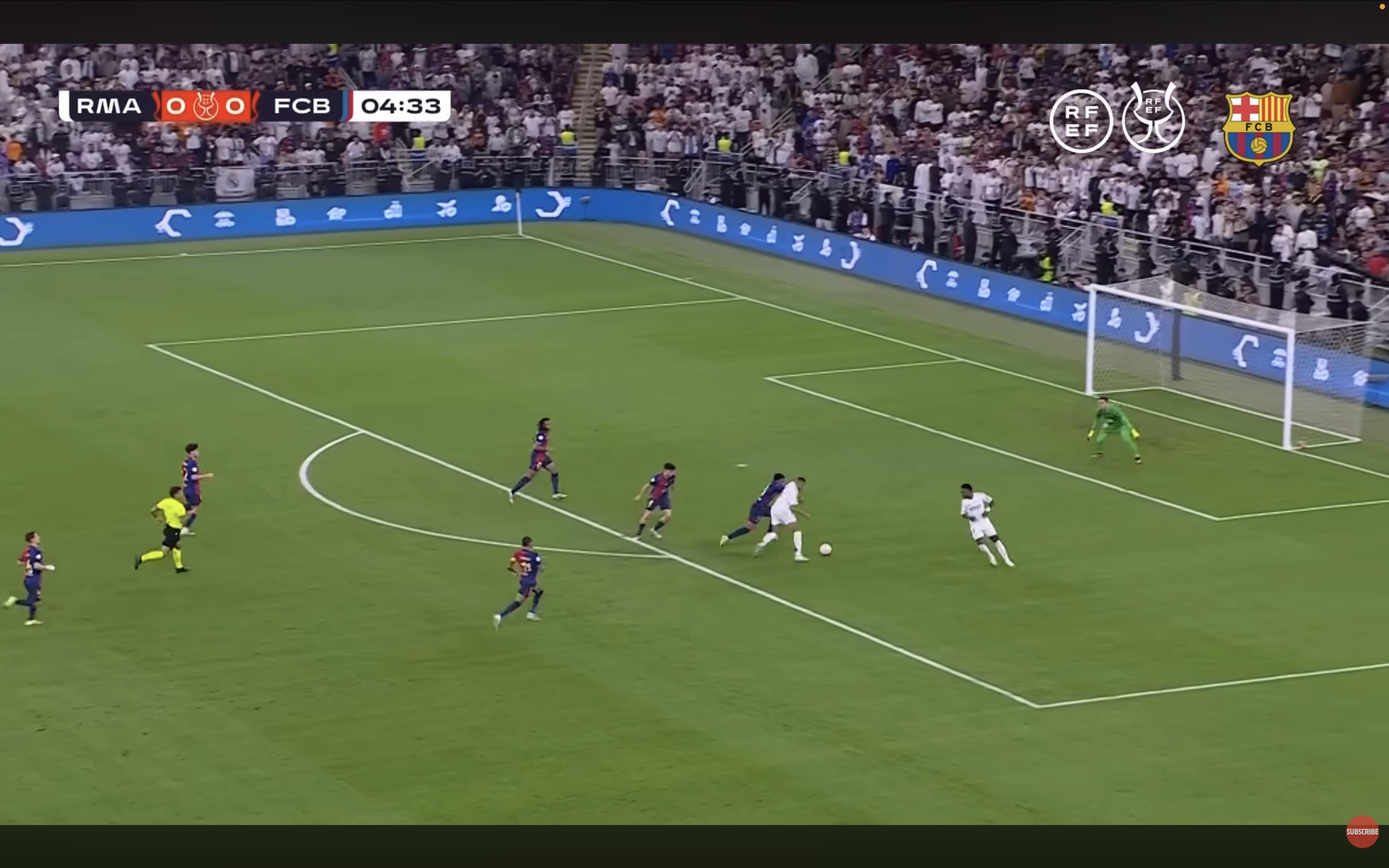ball: (819, 543, 833, 556)
goalkeeper: (1088, 396, 1141, 463)
player: (509, 417, 566, 503), (720, 473, 785, 546), (493, 536, 544, 629), (4, 532, 55, 625), (754, 477, 809, 562), (961, 484, 1015, 567), (633, 463, 676, 540), (181, 443, 213, 536)
referee: (134, 486, 187, 572)
